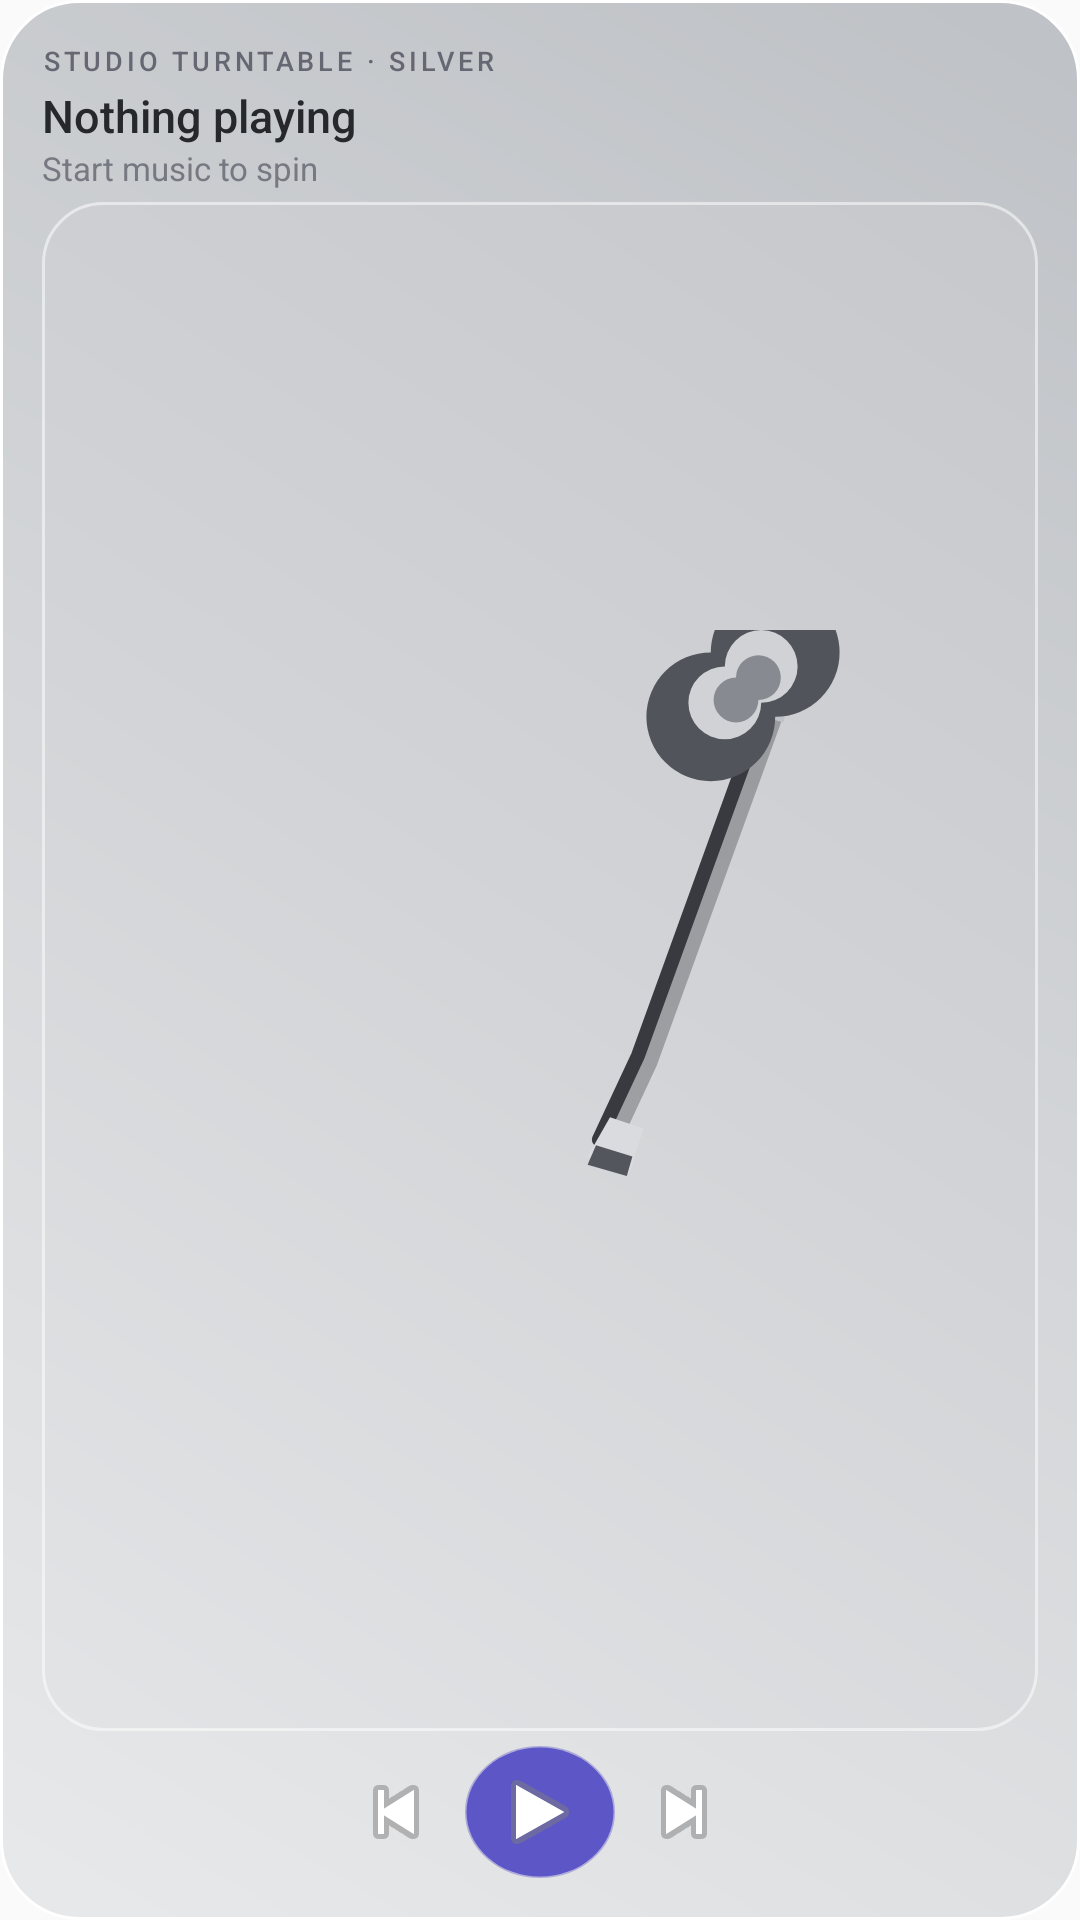

Locate icon controls on the screen. Image size 1080*1920, boxes as (x1, y1, x2, y2).
Next track: (661, 1785, 707, 1839)
Play or pause: (465, 1746, 615, 1878)
Previous track: (373, 1785, 419, 1839)
